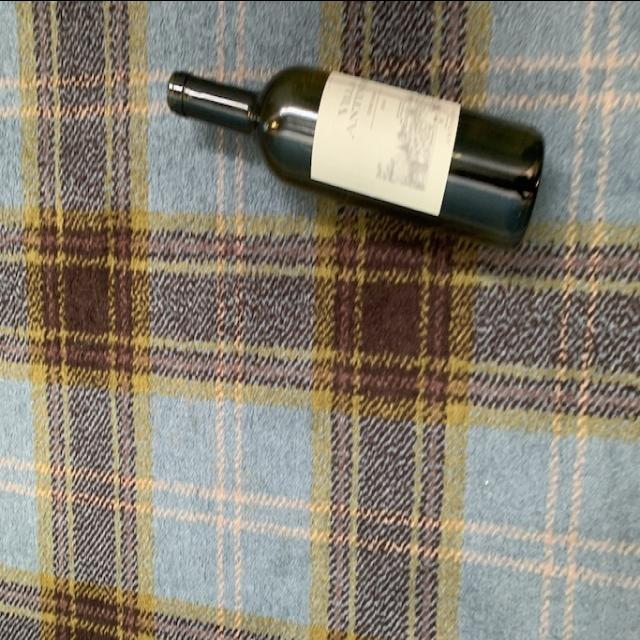Glass Bottle: (163, 68, 548, 248)
